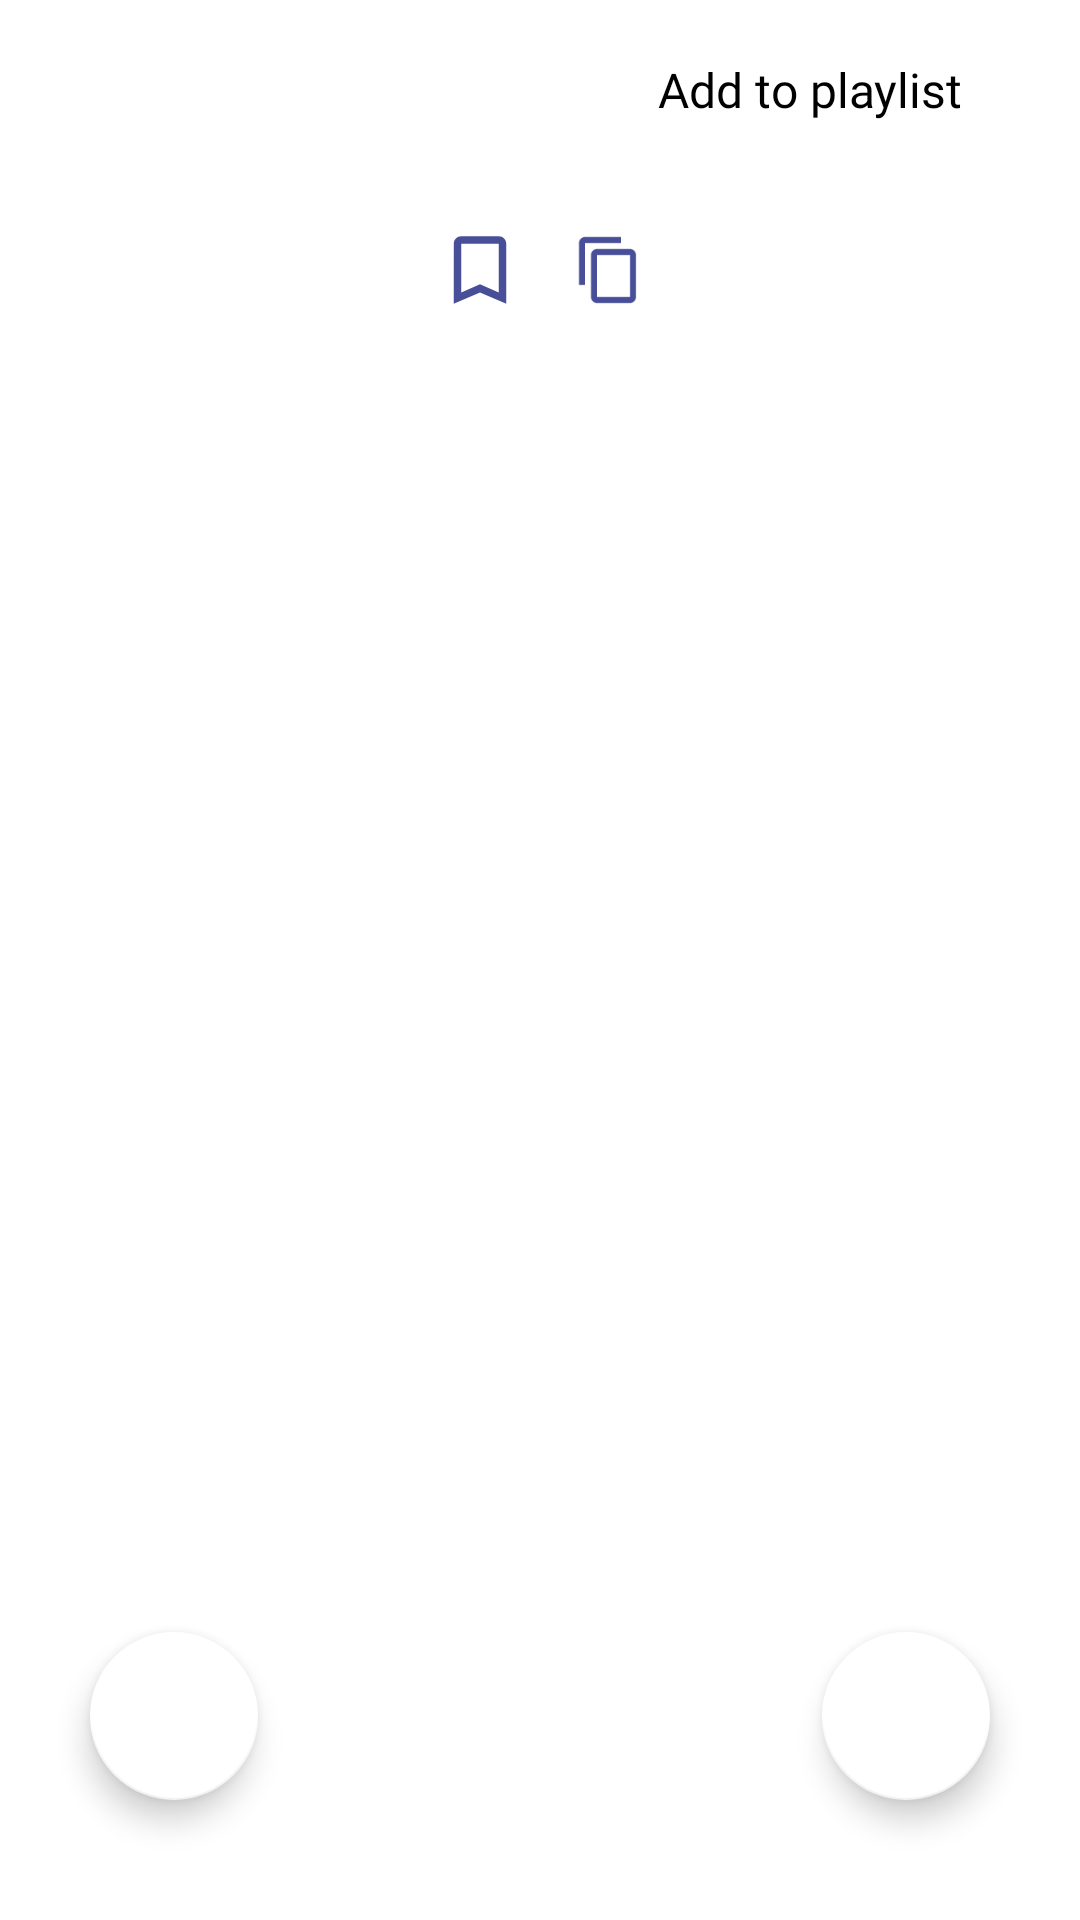

Icon click points for this 1080px×1920px phone screenshot, format (x=x, y=y):
bookmark hollow: (x=480, y=270)
